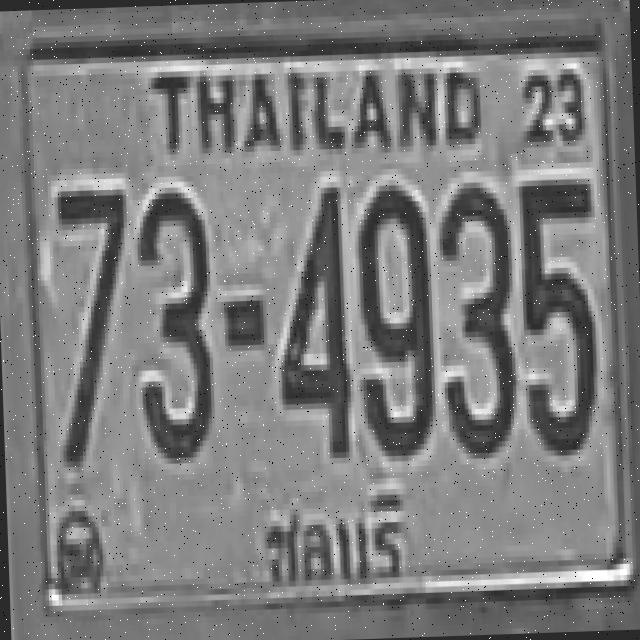3: (436, 175, 516, 454), (132, 186, 212, 458)
4: (272, 181, 349, 454)
5: (515, 173, 596, 451)
7: (52, 184, 133, 462)
9: (352, 175, 433, 454)
Chonburi: (252, 484, 419, 596)
